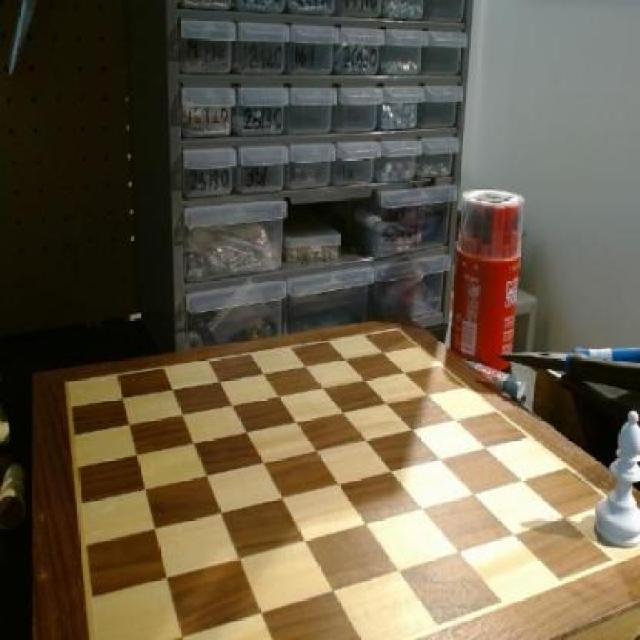black-rook: (596, 408, 640, 549)
